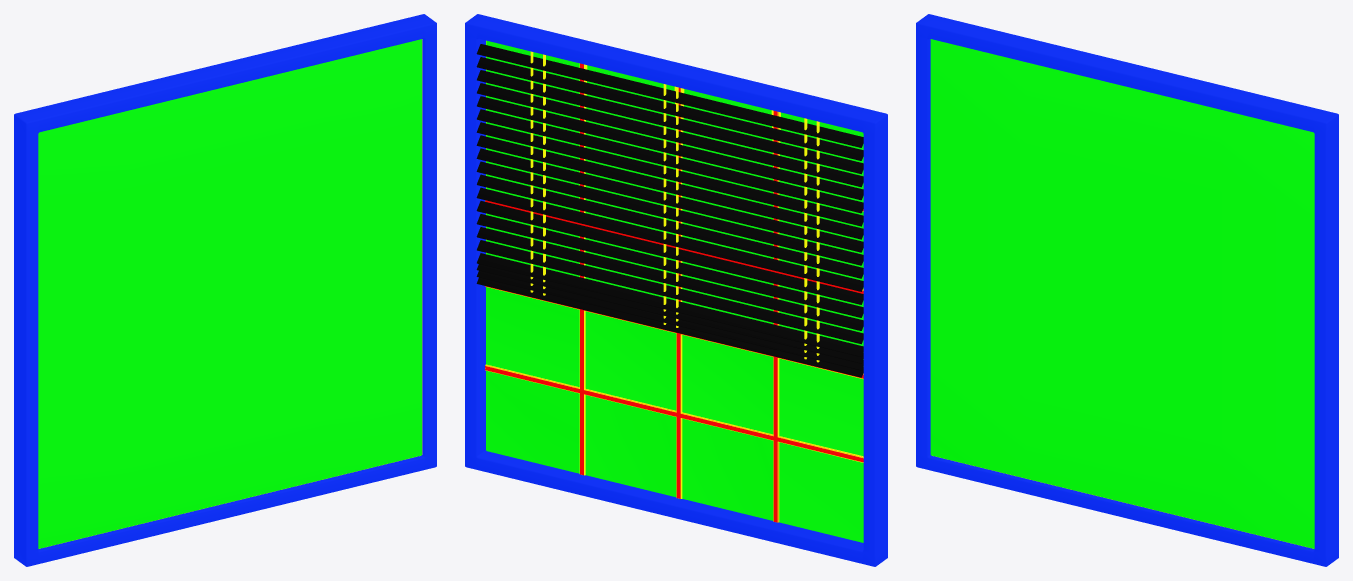
Rendered from Fenster.fbx.
3 views of the same model, side by side, from view 1: azimuth 30°, elevation 25°; view 2: azimuth 150°, elevation 25°; view 3: azimuth 330°, elevation 25° (orthographic).
Parts seen in each view (by area): view 1: Fenster_1; view 2: Fenster_1; view 3: Fenster_1.
Part boxes in pixels (left/top/right/bottom): Fenster_1: left=14, top=14, right=436, bottom=566; Fenster_1: left=465, top=14, right=887, bottom=566; Fenster_1: left=916, top=14, right=1338, bottom=566.
Bounding box in the file's own units: 165 × 170 × 9.51.
